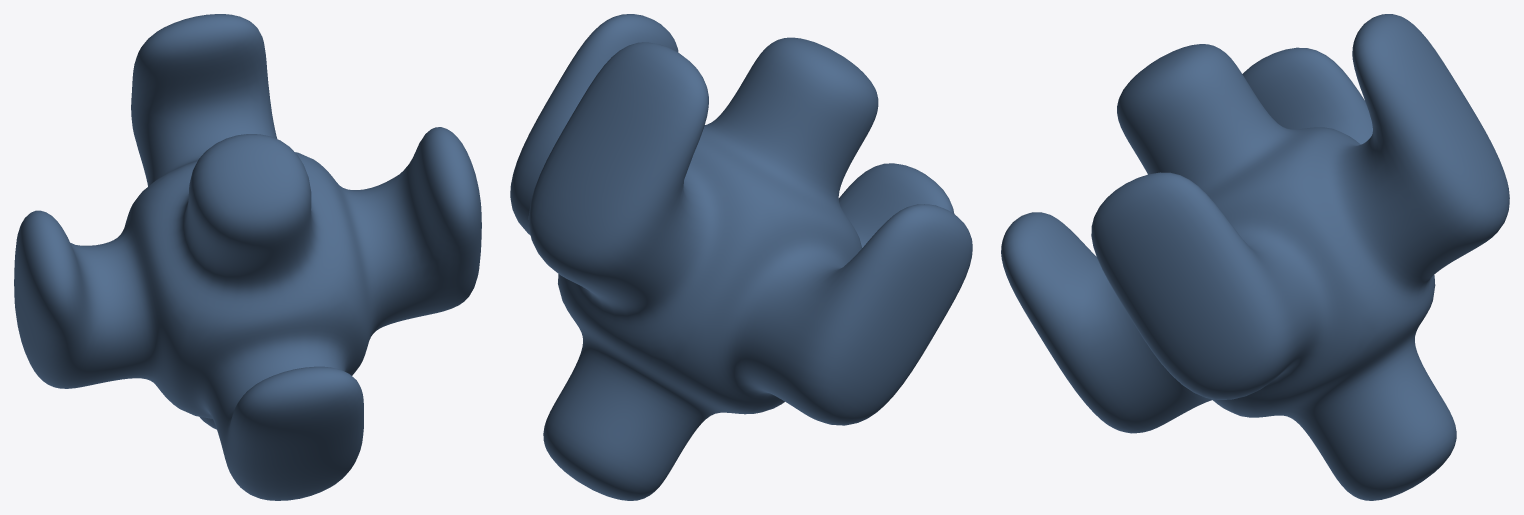
3 renders of one model, left to right at view 1: azimuth 30°, elevation 25°; view 2: azimuth 150°, elevation 25°; view 3: azimuth 270°, elevation 25°, orthographic. The views are drawn at different scales.
Visible parts, largest first — view 1: 50; view 2: 50; view 3: 50.
Part boxes in pixels (<box>): 50: <box>14,14,481,500</box>; 50: <box>510,14,972,500</box>; 50: <box>1001,14,1509,500</box>.
Bounding box in the file's own units: 6.8 × 6.5 × 6.63.
